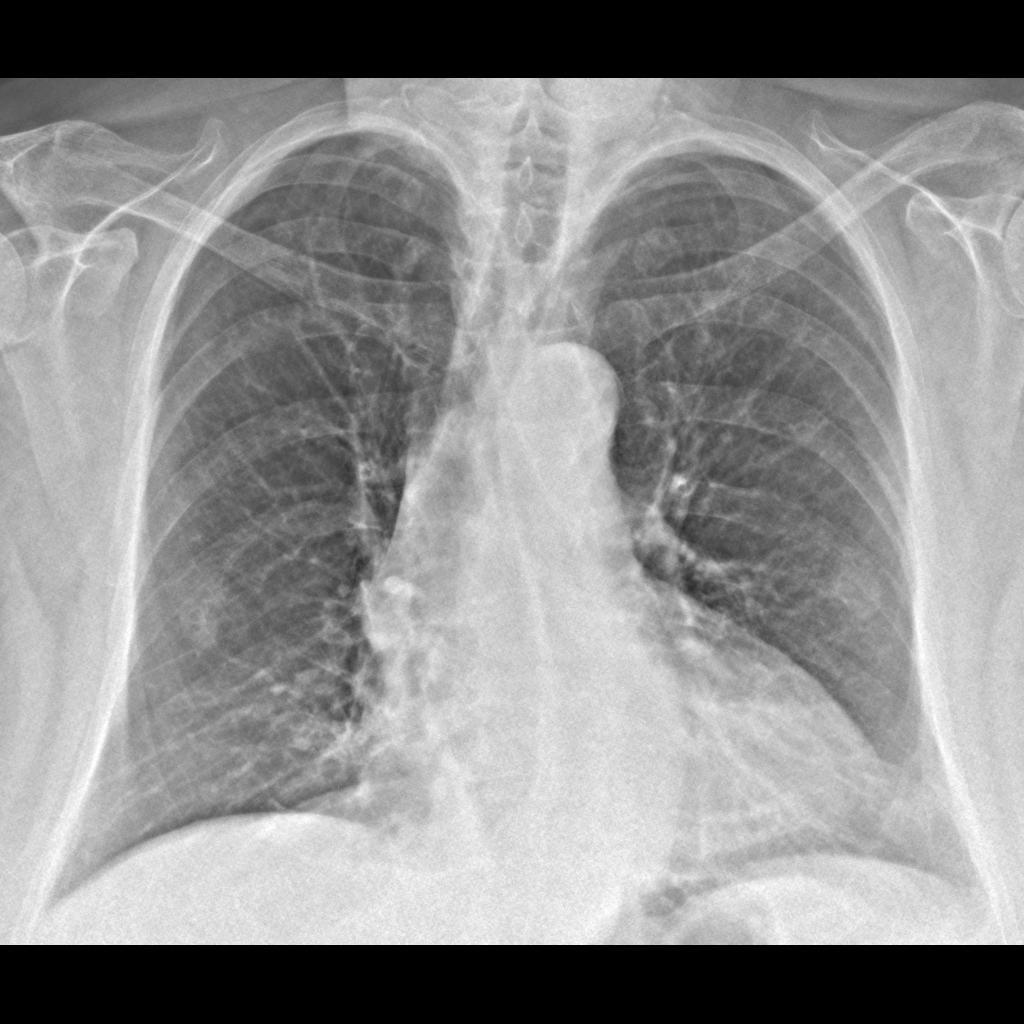Nodule: (167, 570, 245, 653)
